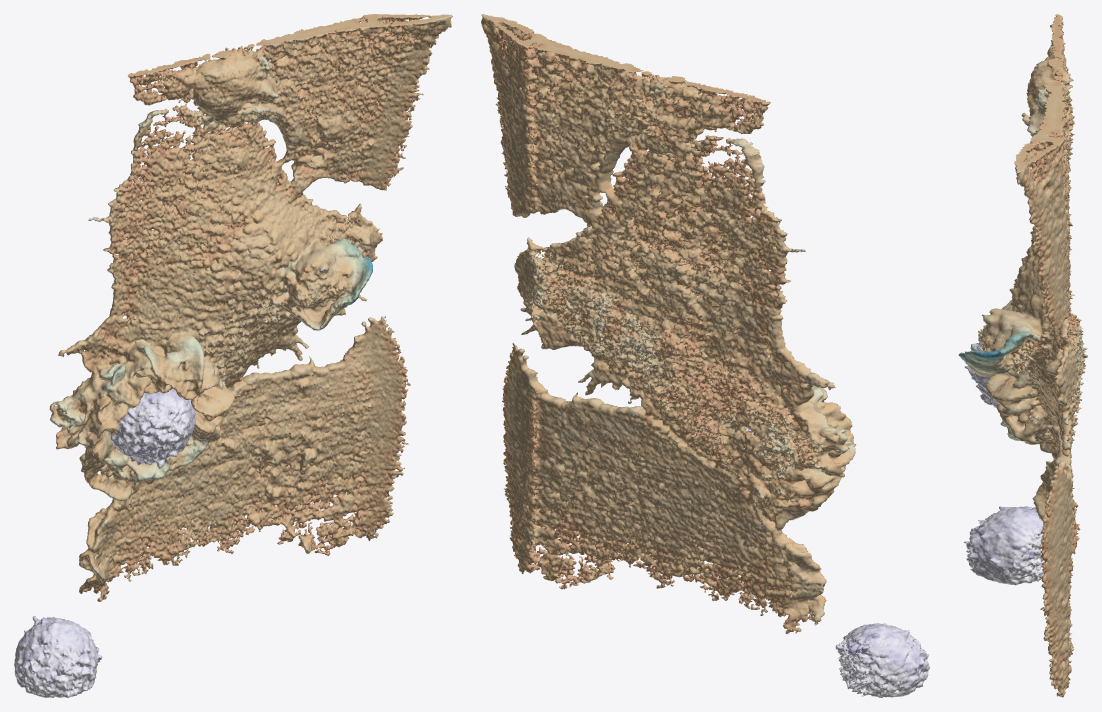
Rendered from Surfaces_4.glb.
3 renders of one model, left to right at view 1: azimuth 30°, elevation 25°; view 2: azimuth 150°, elevation 25°; view 3: azimuth 270°, elevation 25°, orthographic. The views are drawn at different scales.
Parts seen in each view (by area): view 1: surface (×2); view 2: surface (×2); view 3: surface (×2).
Part boxes in pixels (x1,y1,x2,y2): surface (×2): [14, 14, 452, 697]; surface (×2): [481, 14, 929, 697]; surface (×2): [958, 14, 1087, 697].
Size of the model in its own units: 611 by 764 by 148.
